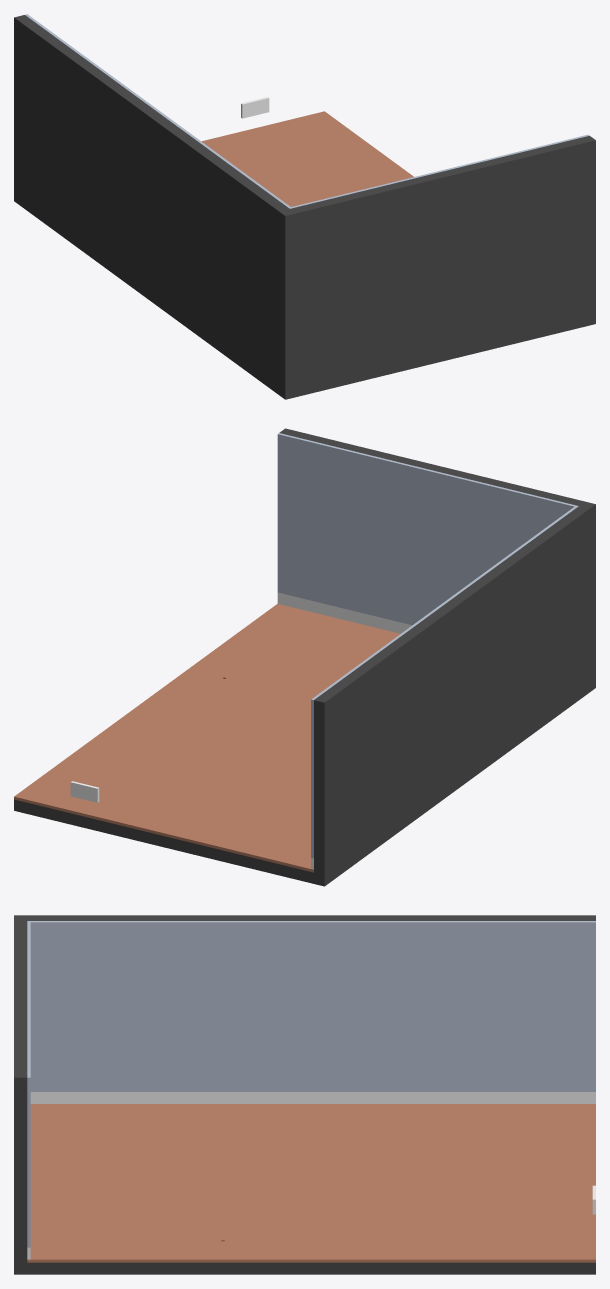
The model's file is Room-0-Room.obj.
3 views of the same model, one above another, from view 1: azimuth 30°, elevation 25°; view 2: azimuth 150°, elevation 25°; view 3: azimuth 270°, elevation 25° (orthographic). The views are drawn at different scales.
Parts seen in each view (by area): view 1: Room; view 2: Room; view 3: Room.
Boxes of the visible parts, <box> form: Room: <box>14,14,595,399</box>; Room: <box>14,428,595,886</box>; Room: <box>14,915,595,1274</box>.
Bounding box in the file's own units: 11.5 × 6.5 × 17.4.
Materials: 1 (1 with a texture image).
